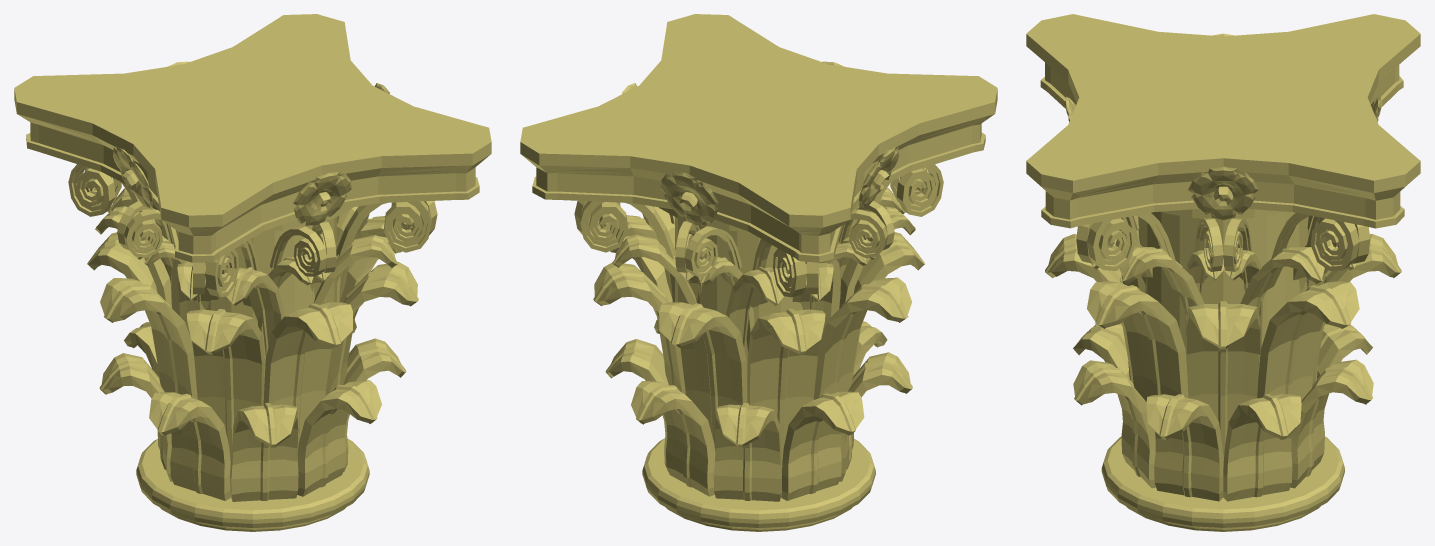
File: gold_220.fbx
3 views of the same model, side by side, from view 1: azimuth 30°, elevation 25°; view 2: azimuth 150°, elevation 25°; view 3: azimuth 270°, elevation 25° (orthographic). The views are drawn at different scales.
Parts seen in each view (by area): view 1: gold_220; view 2: gold_220; view 3: gold_220.
Part boxes in pixels (x1,y1,x2,y2): gold_220: [14, 14, 491, 531]; gold_220: [520, 14, 997, 531]; gold_220: [1026, 14, 1420, 531].
Size of the model in its own units: 41.71 by 45.7 by 41.71.
